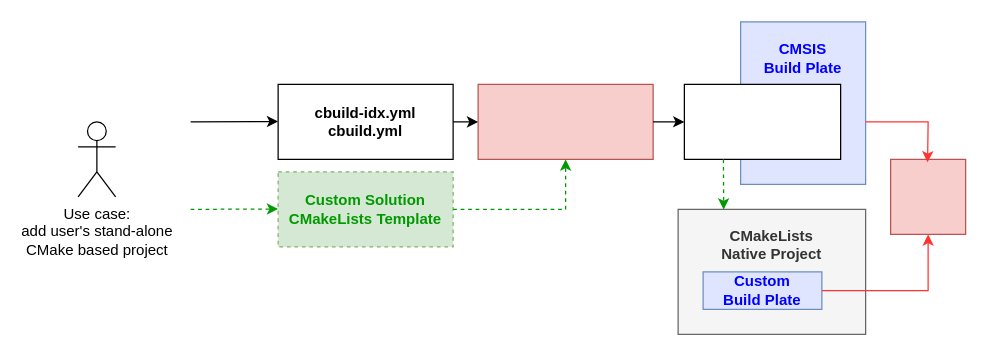
Image size: 988x356. Some labels were removed from this diagram. Each missing label, with the centre of its shape:
"Artifacts" belongs at [927,196].
"CMakeLists Generator Tool" belongs at [565,121].
"Solution CMakeLists" belongs at [762,121].
